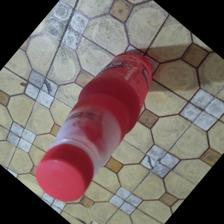Sting: (36, 52, 157, 204)
